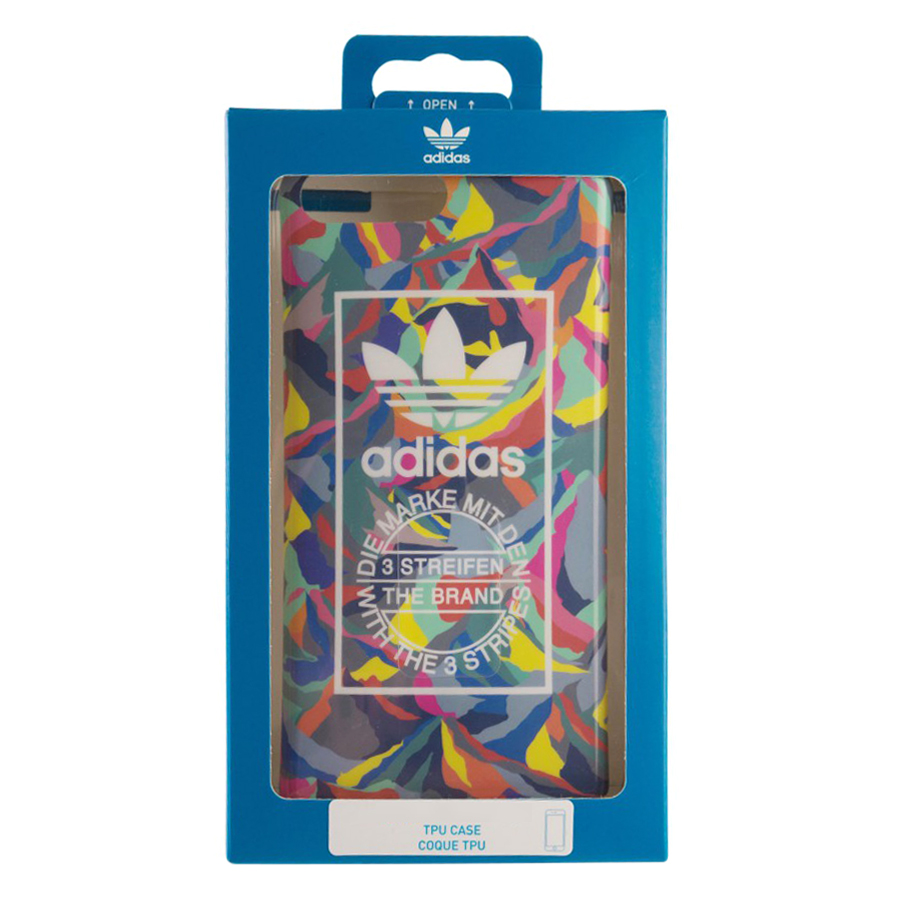Adidas: (351, 301, 538, 488), (410, 112, 476, 167)
